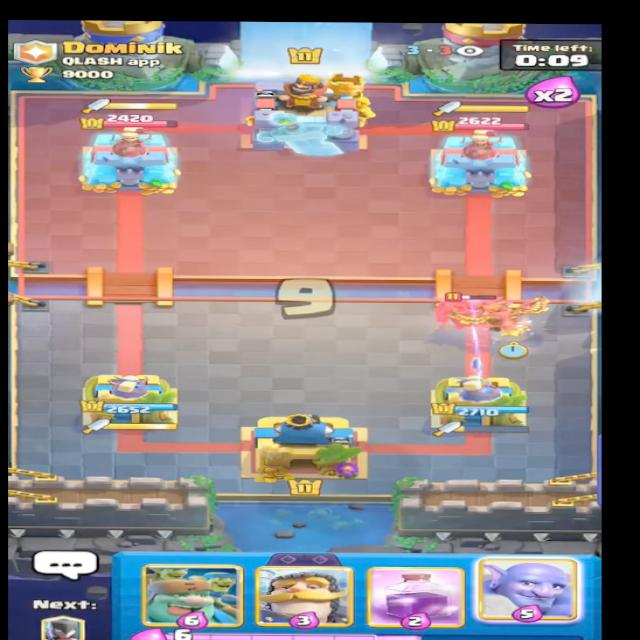pekka: (429, 291, 520, 334)
